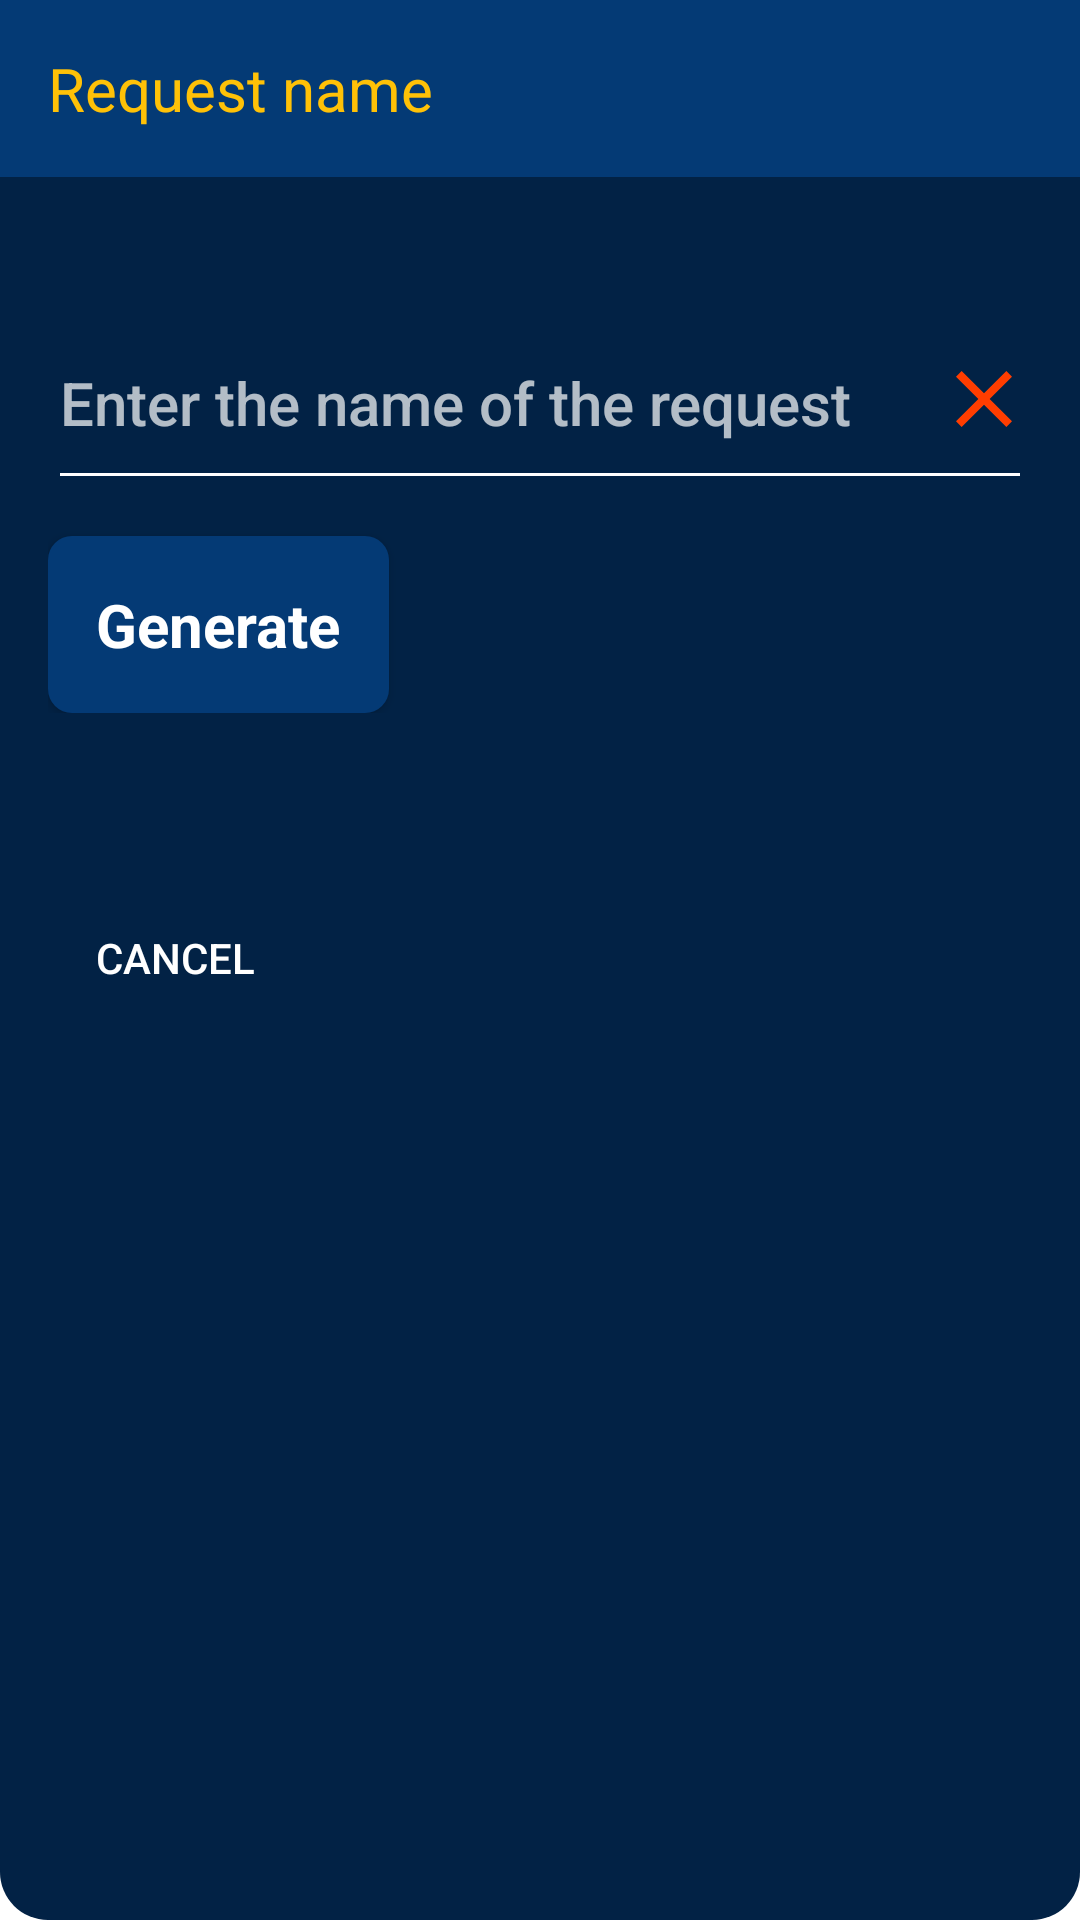

Icons on this 1080x1920 Android screen, each with the point to tap as (x,y):
clear: (984,399)
